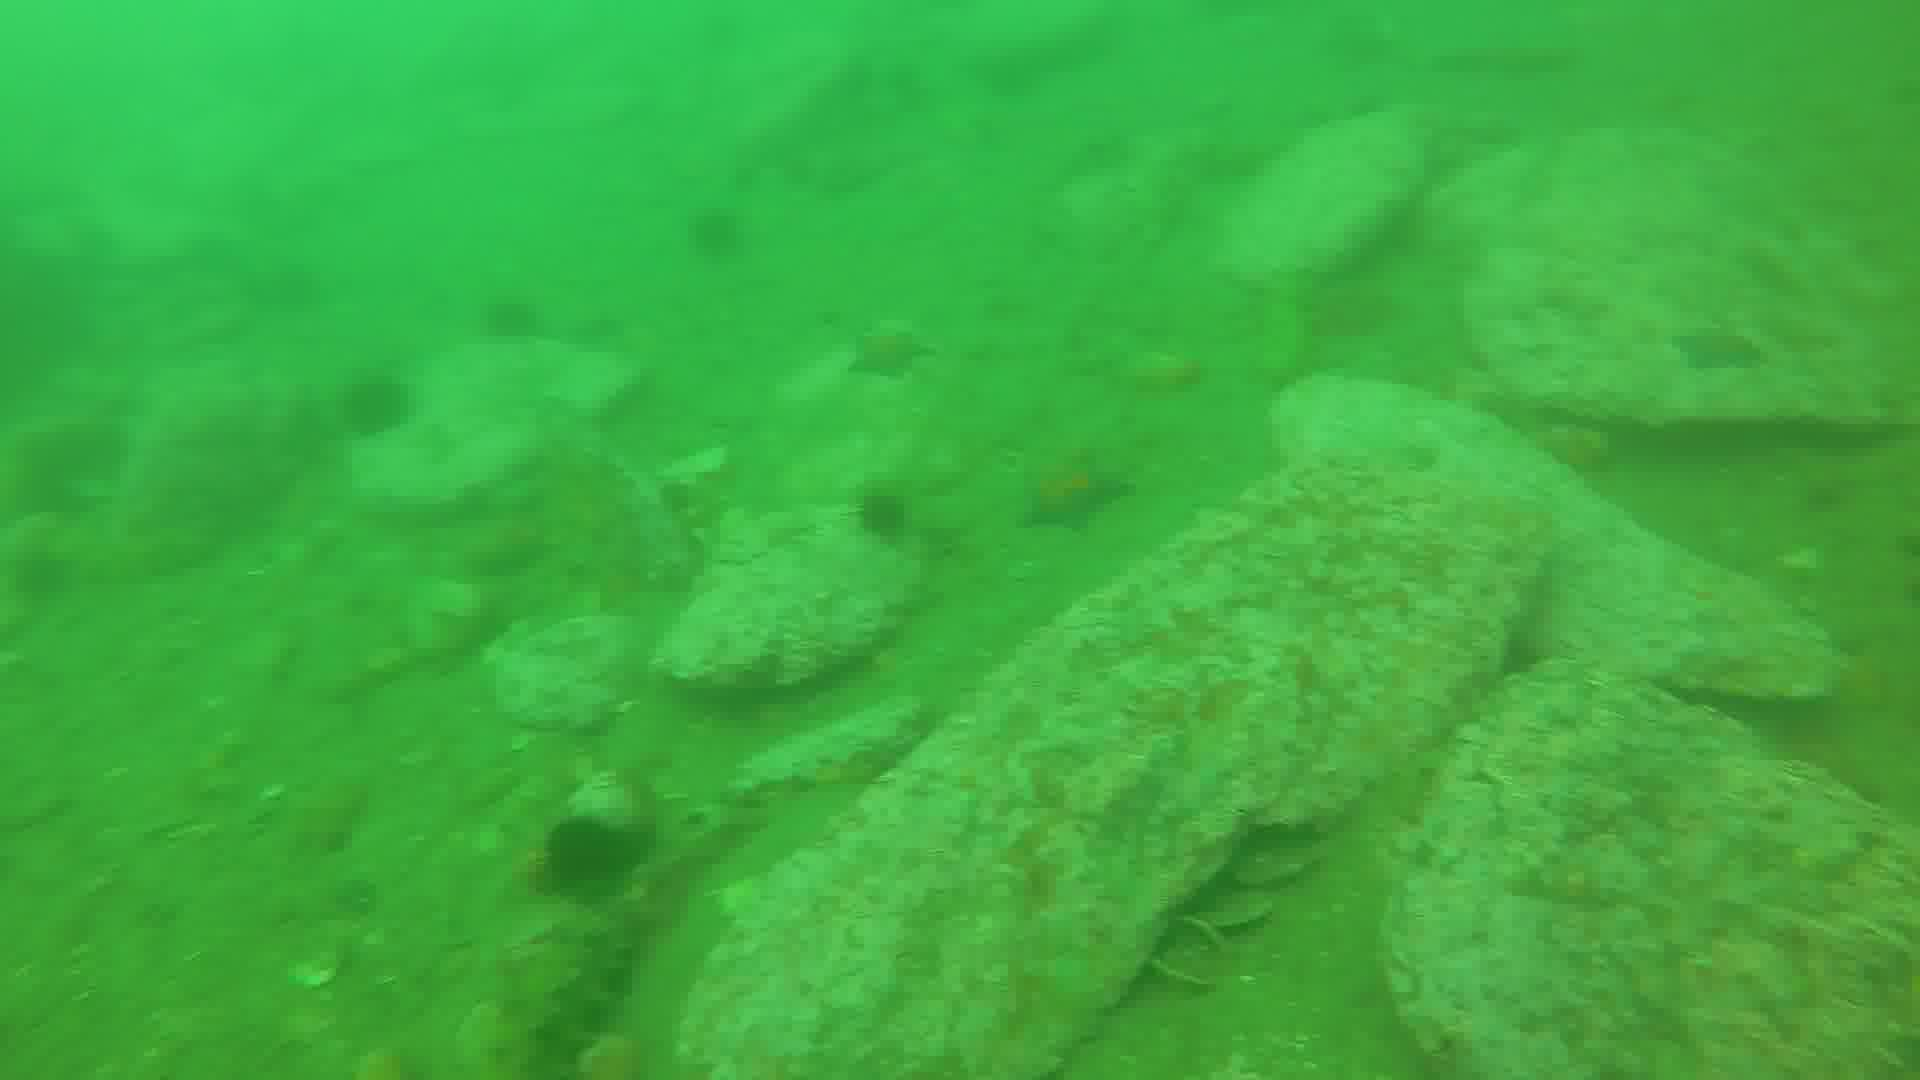echinus: (553, 815, 622, 897), (338, 378, 407, 434), (856, 485, 913, 546), (479, 301, 538, 347)
holothurian: (500, 909, 662, 1080)
starfish: (1019, 454, 1131, 541), (851, 332, 927, 385)
